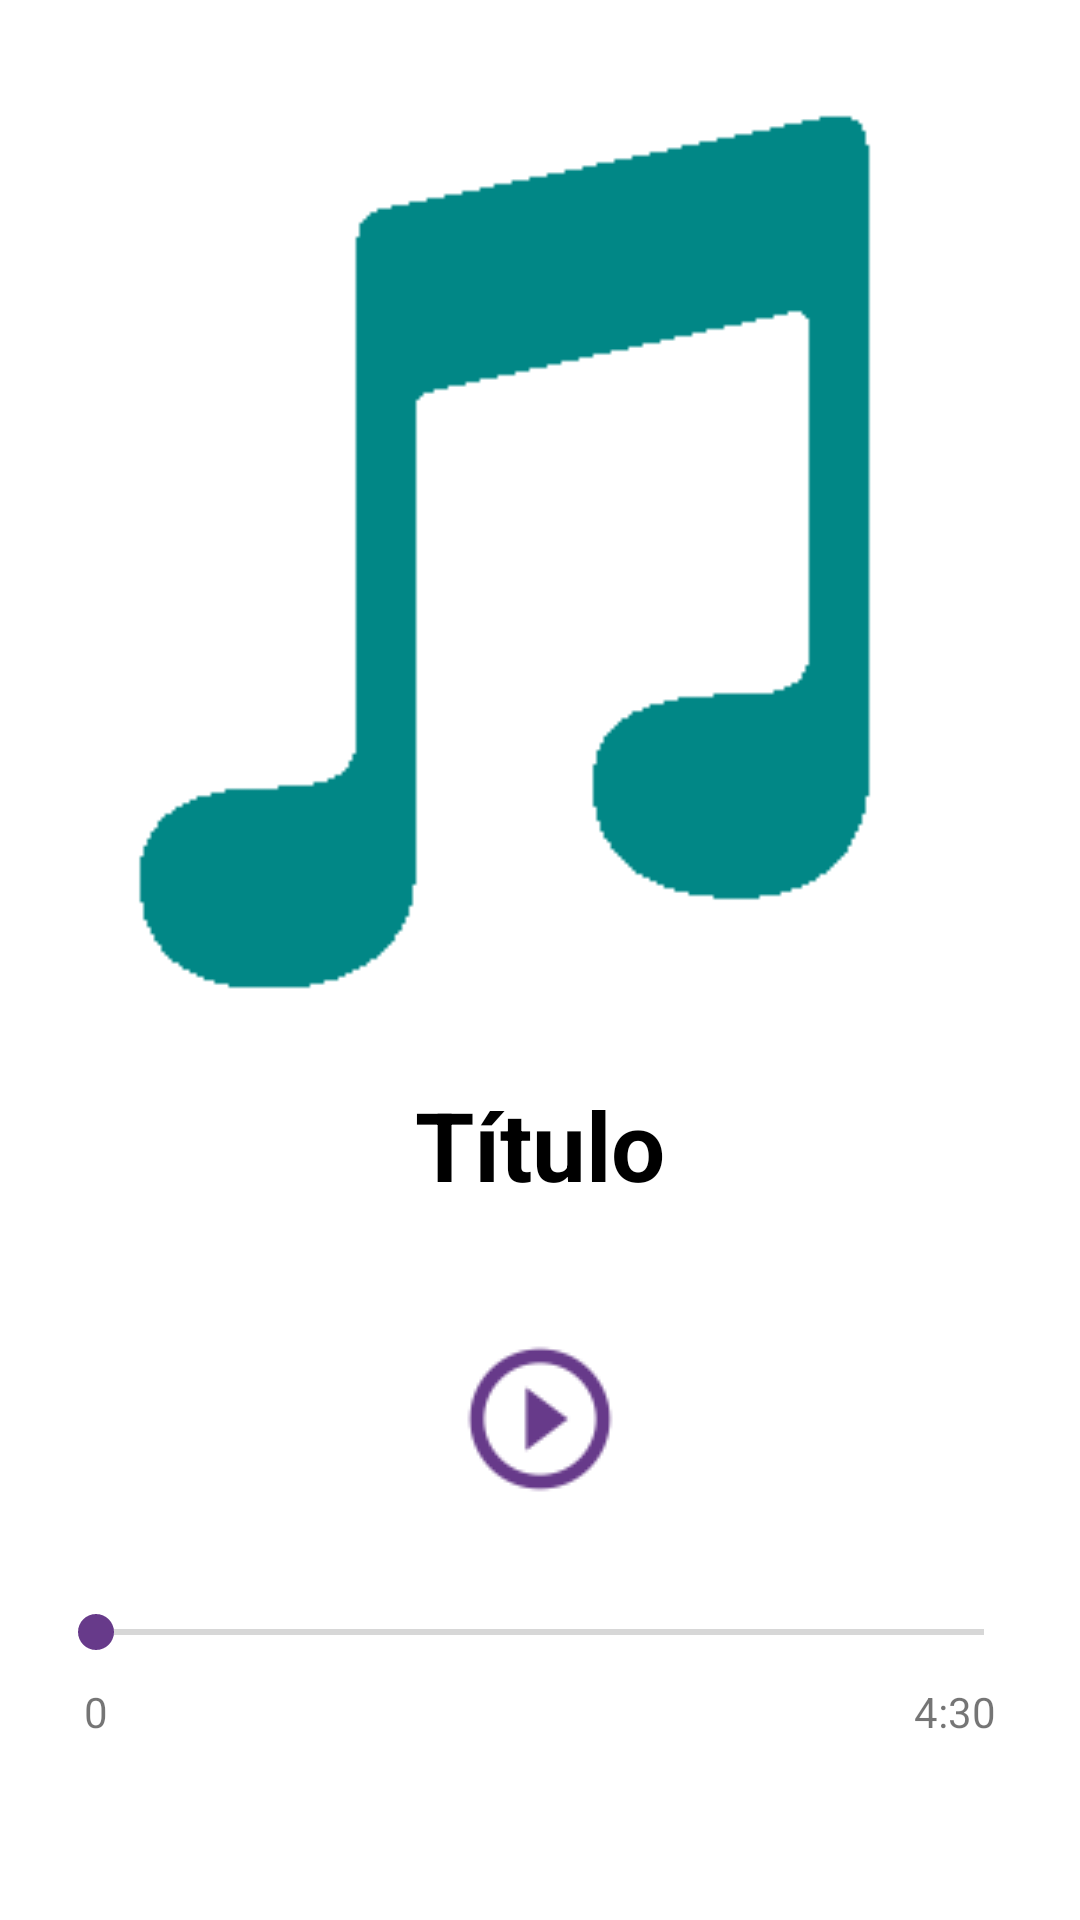

Icons on this 1080*1920 Android screen, each with its box as [x1=x1, y1=y1, x2=x2, y2=y2]:
Button Play and Pause: [x1=468, y1=1347, x2=612, y2=1491]
